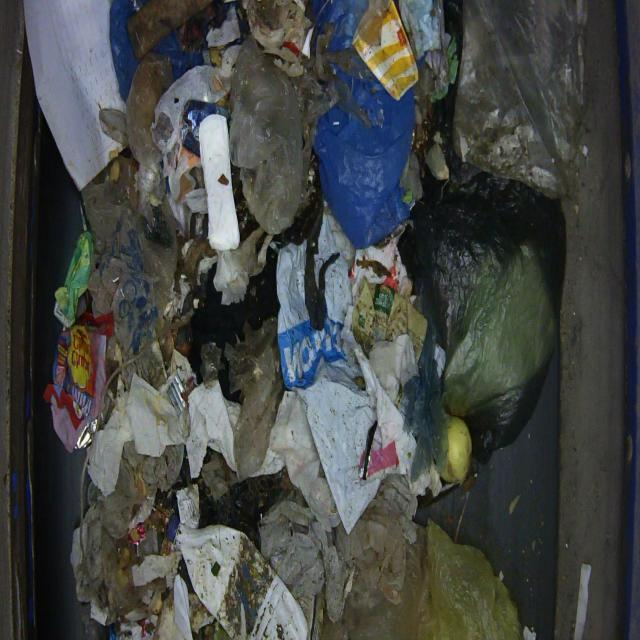cups: (197, 113, 240, 251)
other-trash: (35, 0, 566, 638)
